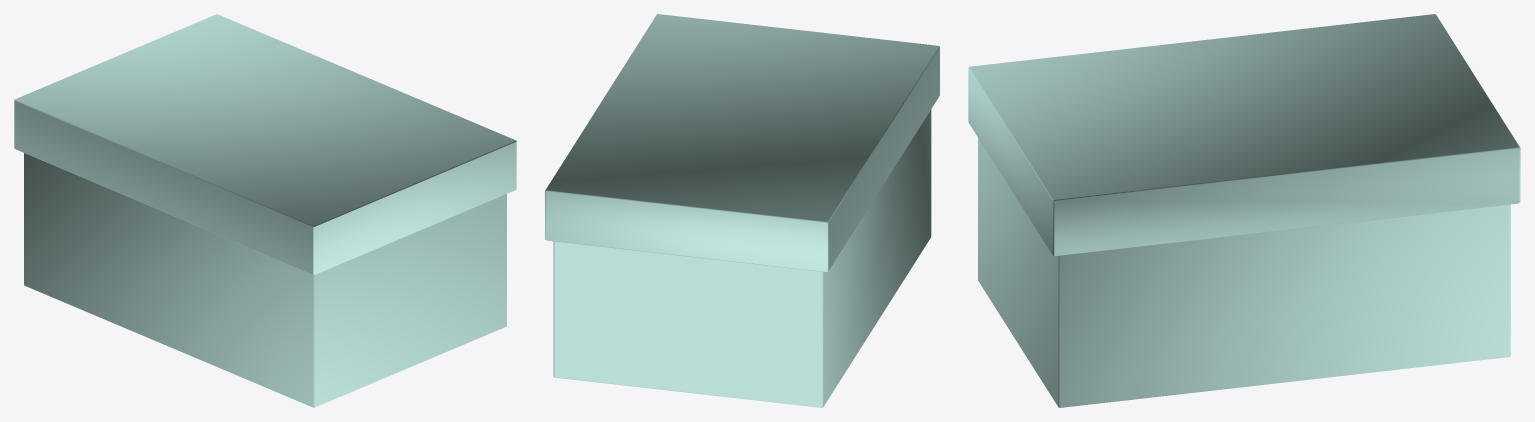
File: 5_material27_ScatolaScarpeChiusa.fbx
The picture shows the model from 3 angles, left to right: view 1: azimuth 30°, elevation 25°; view 2: azimuth 150°, elevation 25°; view 3: azimuth 270°, elevation 25°; orthographic projection. The views are drawn at different scales.
Parts seen in each view (by area): view 1: 5_material27_1_0_0.003_ScatolaScarpeChiusa; view 2: 5_material27_1_0_0.003_ScatolaScarpeChiusa; view 3: 5_material27_1_0_0.003_ScatolaScarpeChiusa.
Part boxes in pixels (box(x1,y1,x2,y2)): 5_material27_1_0_0.003_ScatolaScarpeChiusa: box(14, 14, 516, 407); 5_material27_1_0_0.003_ScatolaScarpeChiusa: box(545, 14, 939, 407); 5_material27_1_0_0.003_ScatolaScarpeChiusa: box(968, 14, 1520, 407).
Size of the model in its own units: 199 by 106 by 249.
